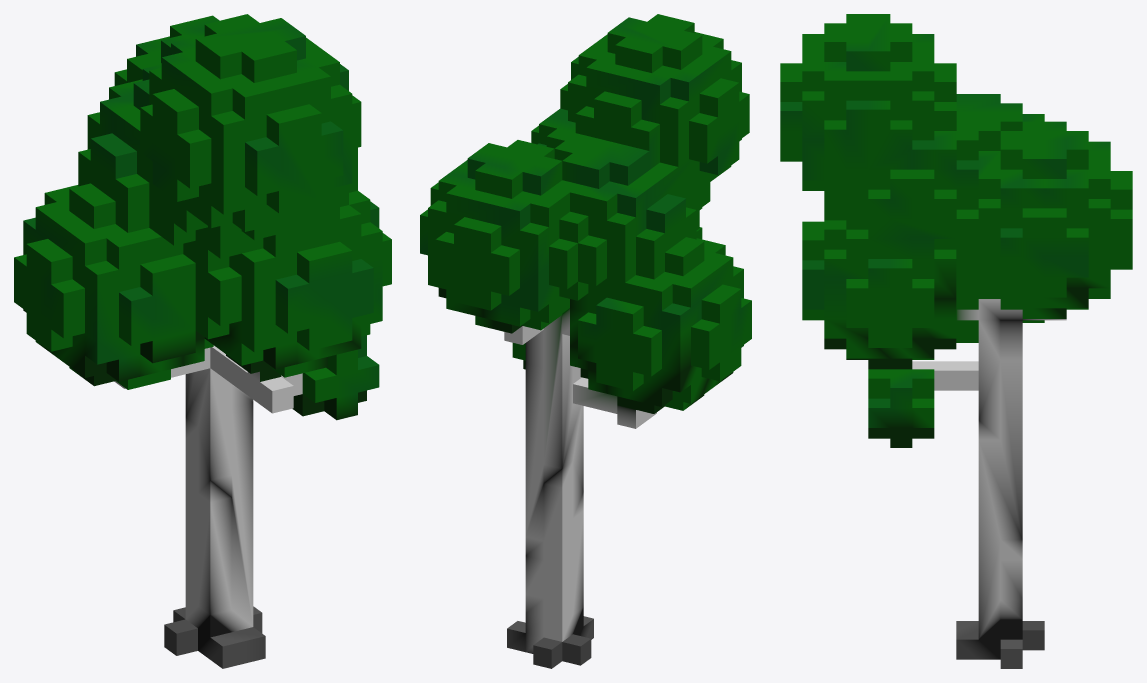
Rendered from Tree_2.fbx.
The picture shows the model from 3 angles, left to right: view 1: azimuth 30°, elevation 25°; view 2: azimuth 150°, elevation 25°; view 3: azimuth 270°, elevation 25°; orthographic projection. The views are drawn at different scales.
Visible parts, largest first — view 1: Tree_2; view 2: Tree_2; view 3: Tree_2.
Boxes of the visible parts, x1,y1,x2,y2 form: Tree_2: (14,14,391,668); Tree_2: (420,14,751,668); Tree_2: (780,14,1132,668).
Bounding box in the file's own units: 72.68 × 156 × 83.06.
